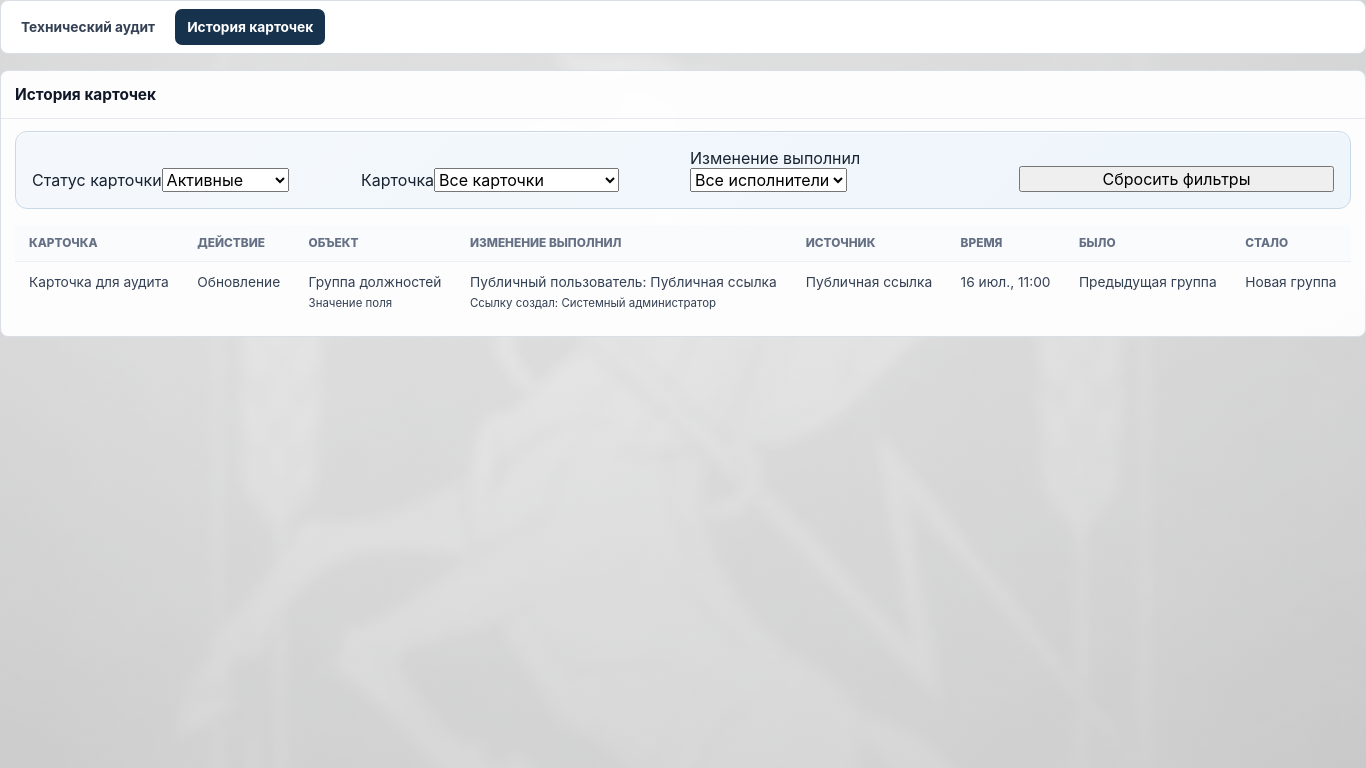
it: groups the default active history and applies card, actor, status, and reset filters
expect the text "Новая группа" is shown: met, box x1=1245 y1=274 x2=1337 y2=290
expect the text "Новая группа" shows "Карточка для аудита": met, box x1=29 y1=274 x2=169 y2=290
Click the text "Новая группа": (683, 293) x1=15 y1=262 x2=1351 y2=324
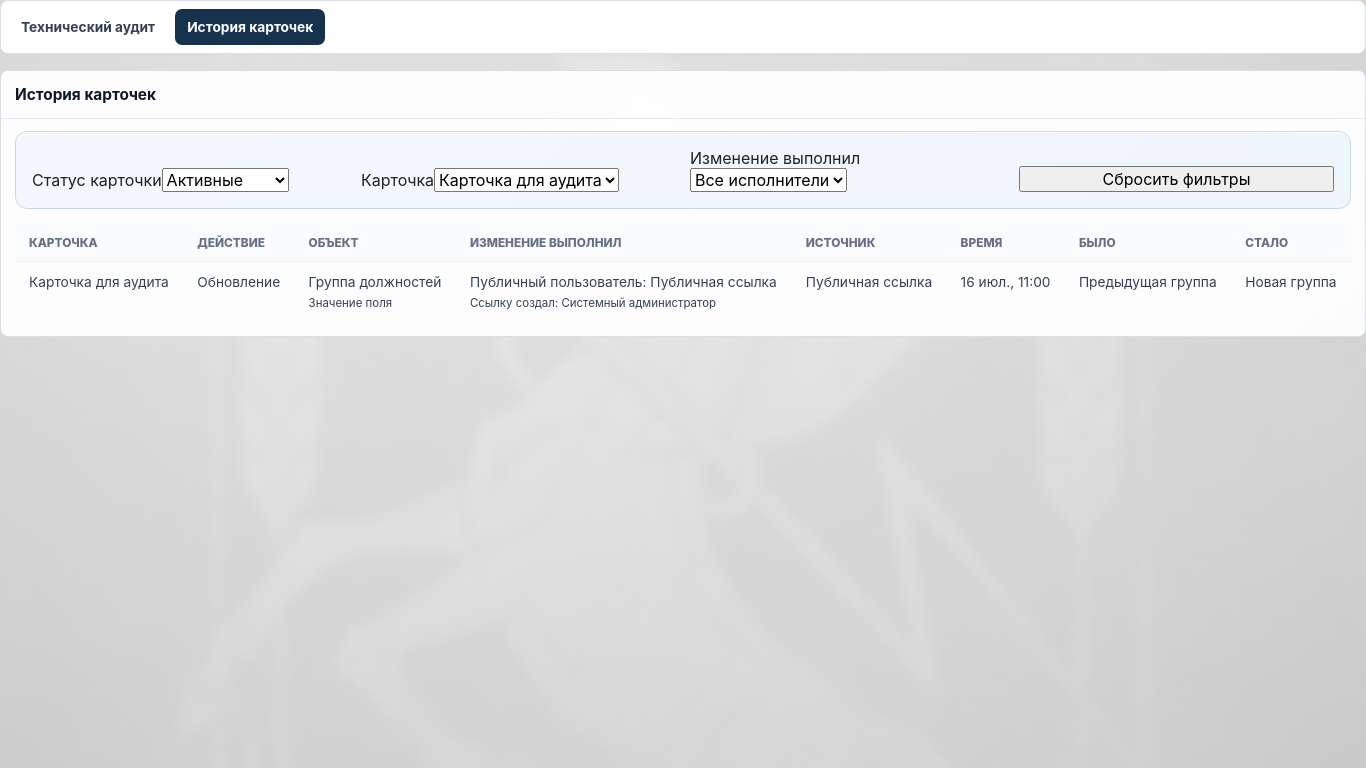
expect the text "Группа должностей" is shown: met, box x1=309 y1=273 x2=442 y2=293
expect the dropdown labelled "Карточка" shows "Карточка для аудита": met, box x1=434 y1=168 x2=619 y2=192
Select "Аудитор" in the dropdown labelled "Изменение выполнил": (768, 180) x1=690 y1=168 x2=847 y2=192
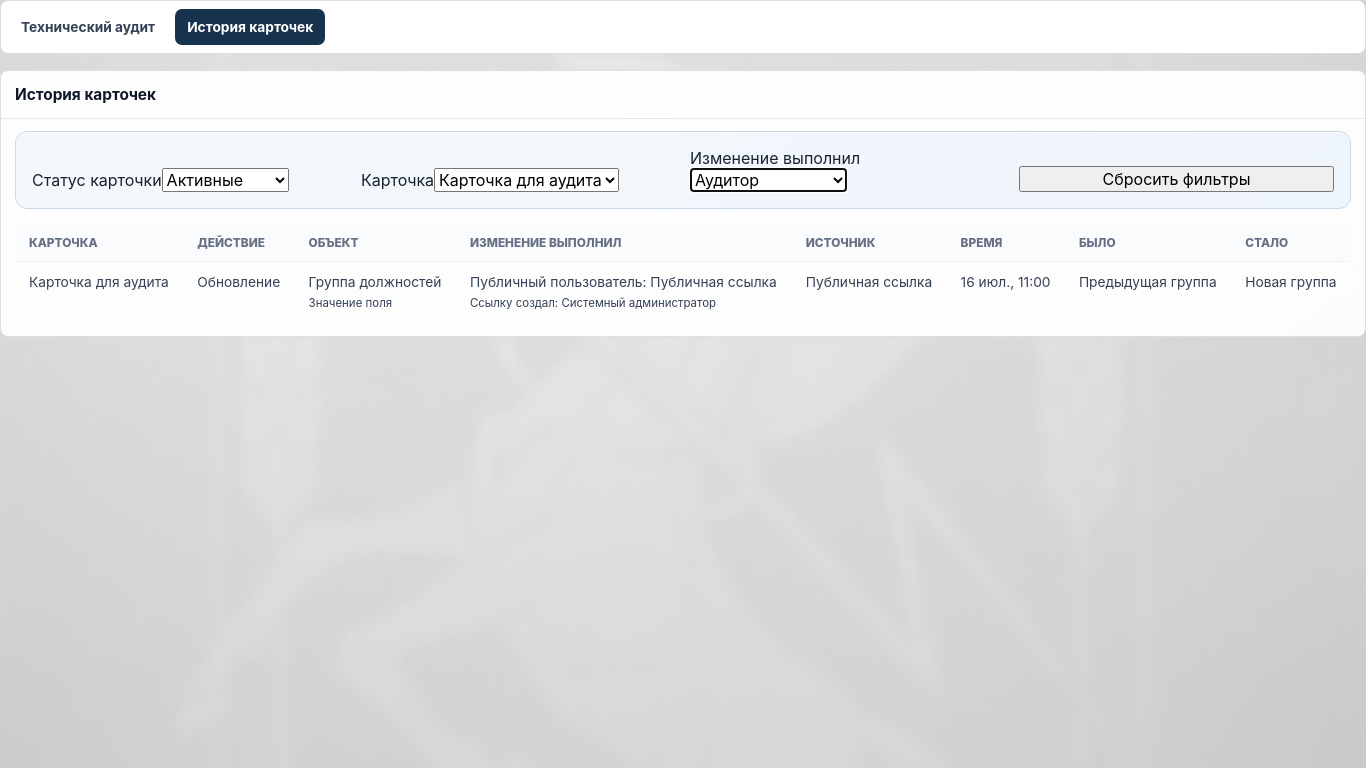
Select "Архивные" in the dropdown labelled "Статус карточки": (225, 180) x1=162 y1=168 x2=289 y2=192
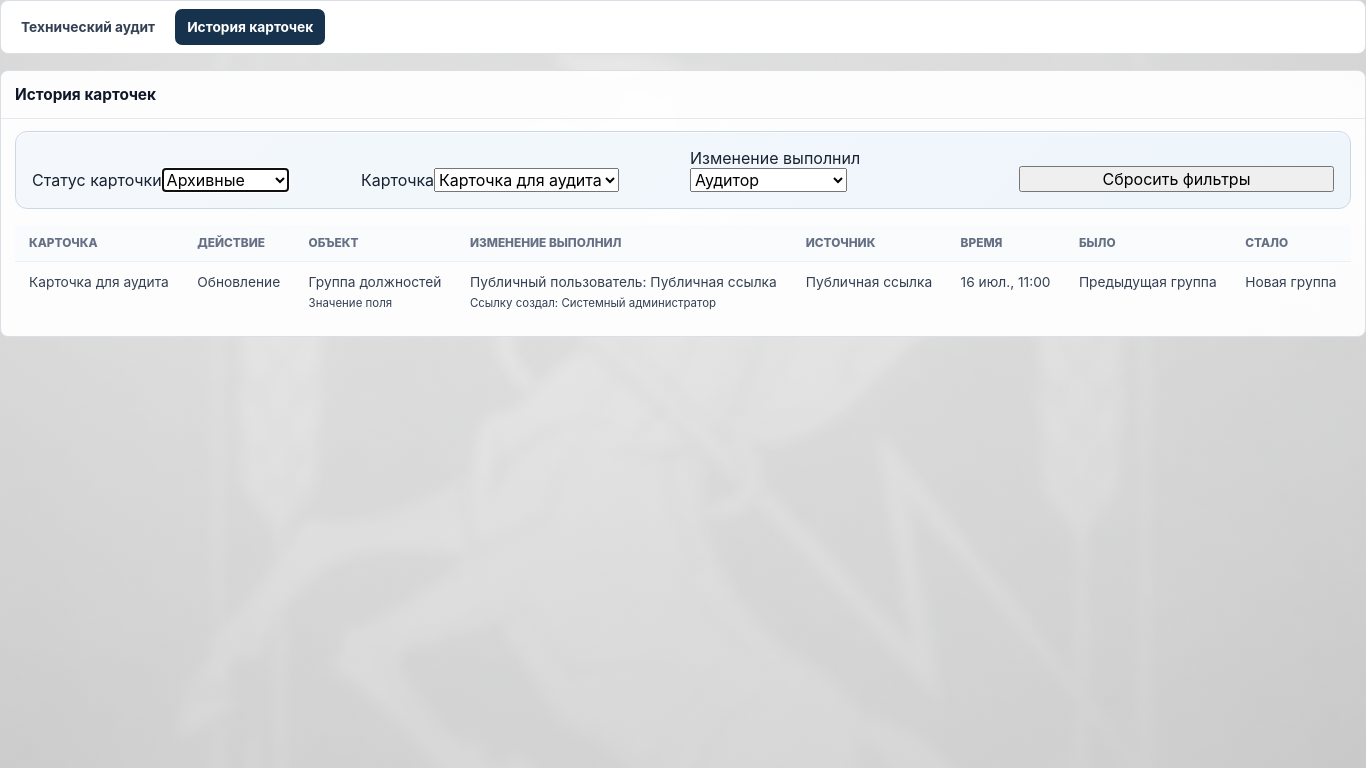
Click the button "Сбросить фильтры": (1176, 179) x1=1019 y1=166 x2=1334 y2=192
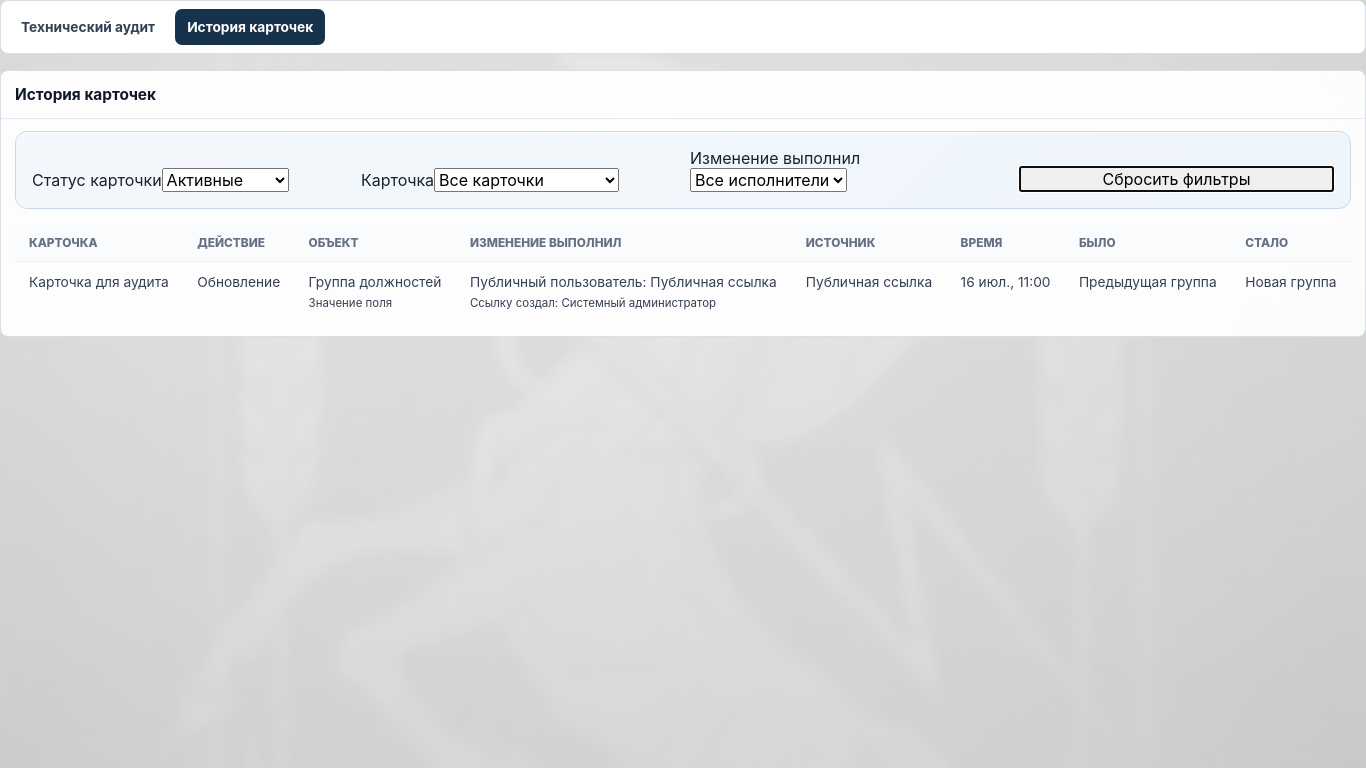
expect the dropdown labelled "Карточка" shows "Все карточки": met, box x1=434 y1=168 x2=619 y2=192
